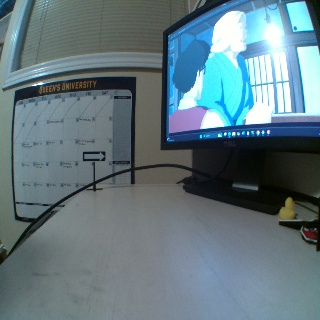sign_oneway_right: (82, 150, 106, 161)
